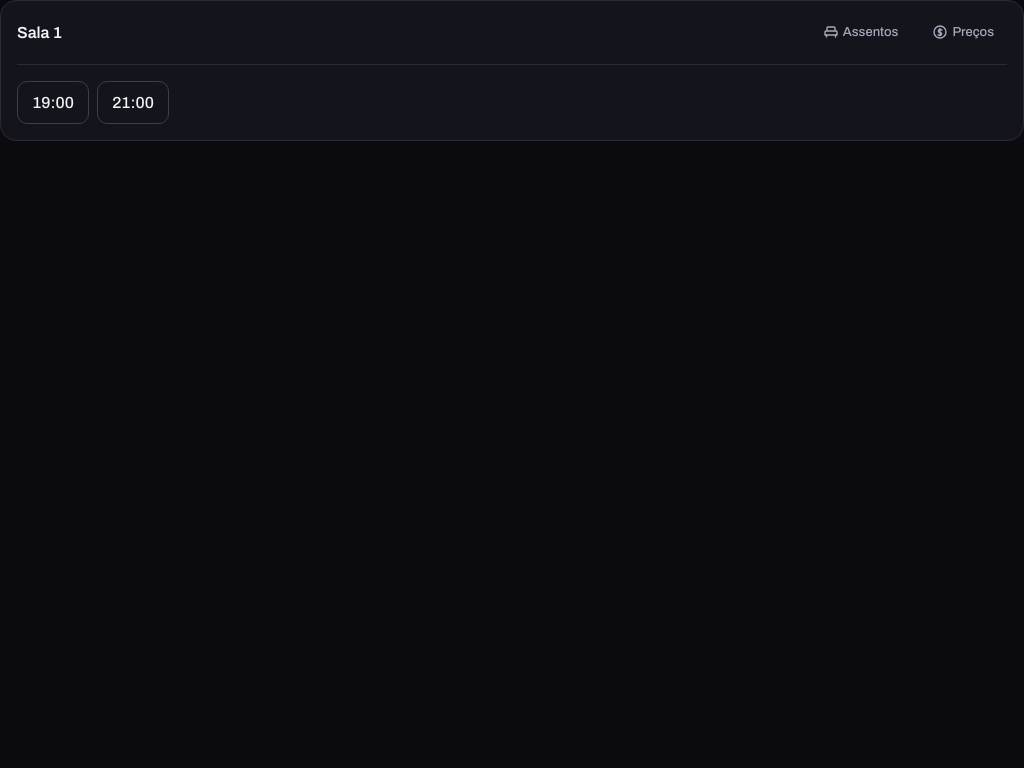
Test: painel de assentos › A1/A2 — desenha a lotação e diz quantos lugares restam
Click the button "Assentos" at [861, 32], box [810,17,912,48]
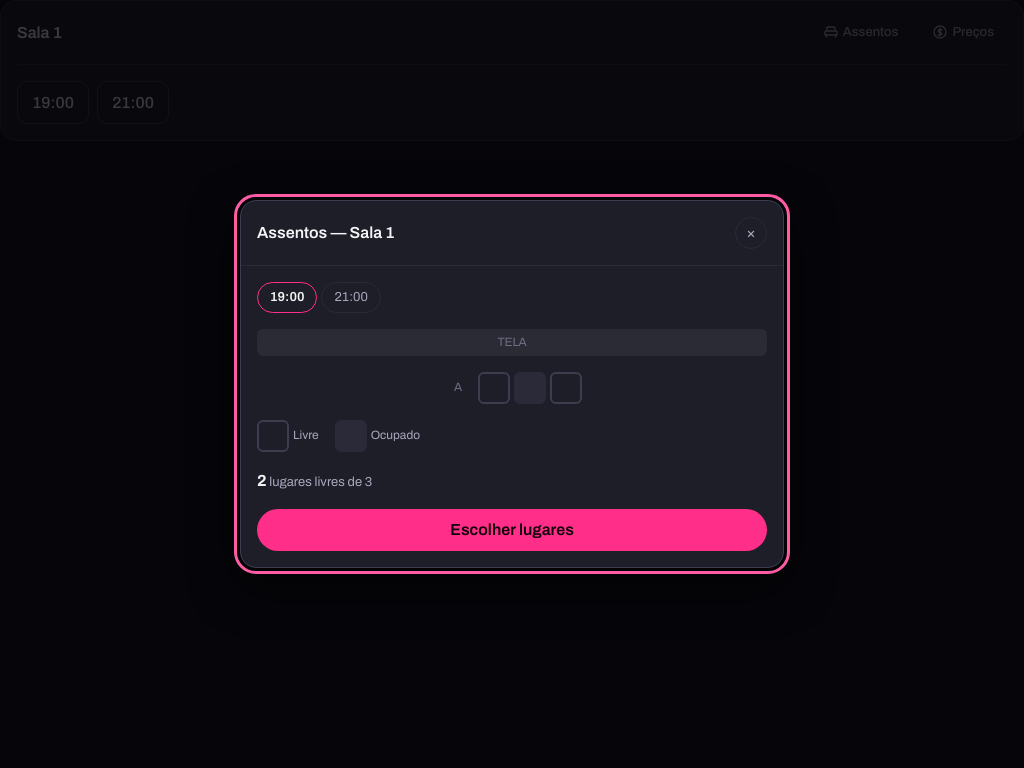
Check: the text "2 lugares livres de 3" is shown, box [257,472,372,489]
Check: the text "2" is shown, box [257,472,267,489]
Check: the list item "Livre" is shown, box [257,420,319,452]
